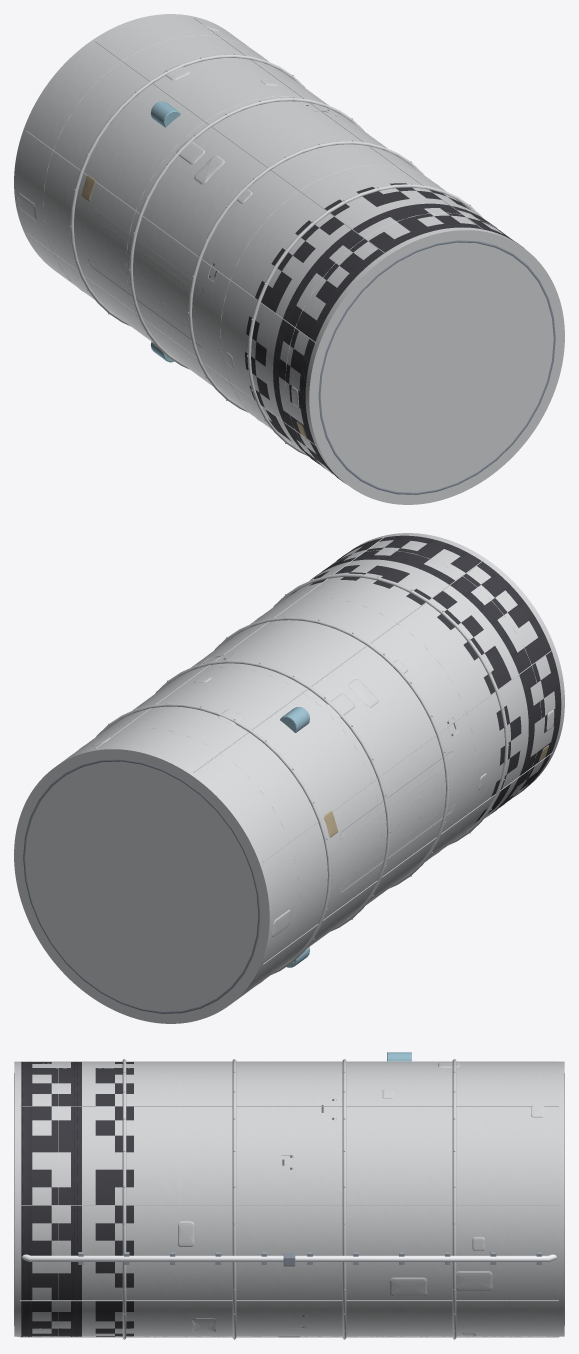
Rendered from tank-12-main.glb.
3 renders of one model, top to bottom at view 1: azimuth 30°, elevation 25°; view 2: azimuth 150°, elevation 25°; view 3: azimuth 270°, elevation 25°, orthographic. The views are drawn at different scales.
Parts seen in each view (by area): view 1: tank_hull, tank_surface_panels, tank_end_rim_1.0, tank-band.003, tank-band.002, tank-band, tank-band.001; view 2: tank_hull, tank_surface_panels, tank_end_rim_-1.0, tank-band, tank-band.002, tank-band.003, tank-band.001; view 3: tank_hull, tank_surface_panels, cryo_feedline, tank-band, tank-band.001, tank-band.002, tank-band.003, tank_longitudinal_seam_7, tank_longitudinal_seam_6, tank_longitudinal_seam_0, tank_longitudinal_seam_2, tank_longitudinal_seam_1 (+2 smaller).
Part boxes in pixels (x1=…): tank_hull: x1=14, y1=14, x2=564, y2=504; tank_surface_panels: x1=18, y1=23, x2=337, y2=437; tank_end_rim_1.0: x1=318, y1=240, x2=555, y2=494; tank-band.003: x1=247, y1=184, x2=482, y2=455; tank-band.002: x1=188, y1=141, x2=423, y2=412; tank-band: x1=70, y1=54, x2=305, y2=326; tank-band.001: x1=129, y1=97, x2=364, y2=369; tank_hull: x1=14, y1=533, x2=564, y2=1023; tank_surface_panels: x1=92, y1=652, x2=554, y2=936; tank_end_rim_-1.0: x1=23, y1=759, x2=260, y2=1013; tank-band: x1=96, y1=703, x2=331, y2=974; tank-band.002: x1=214, y1=616, x2=449, y2=888; tank-band.003: x1=273, y1=573, x2=508, y2=845; tank-band.001: x1=155, y1=660, x2=390, y2=931; tank_hull: x1=14, y1=1061, x2=564, y2=1336; tank_surface_panels: x1=178, y1=1062, x2=544, y2=1337; cryo_feedline: x1=22, y1=1254, x2=556, y2=1261; tank-band: x1=452, y1=1059, x2=456, y2=1338; tank-band.001: x1=342, y1=1059, x2=346, y2=1338; tank-band.002: x1=232, y1=1059, x2=236, y2=1338; tank-band.003: x1=122, y1=1059, x2=126, y2=1338; tank_longitudinal_seam_7: x1=20, y1=1300, x2=558, y2=1301; tank_longitudinal_seam_6: x1=20, y1=1336, x2=558, y2=1337; tank_longitudinal_seam_0: x1=20, y1=1205, x2=558, y2=1205; tank_longitudinal_seam_2: x1=20, y1=1061, x2=558, y2=1061; tank_longitudinal_seam_1: x1=20, y1=1106, x2=558, y2=1106.
Size of the model in its own units: 6.32 by 6.15 by 12.02.
